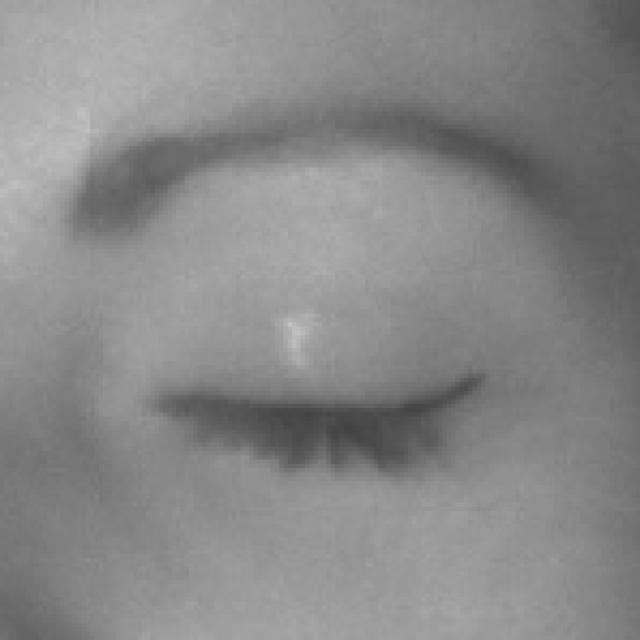close: (0, 69, 640, 637)
